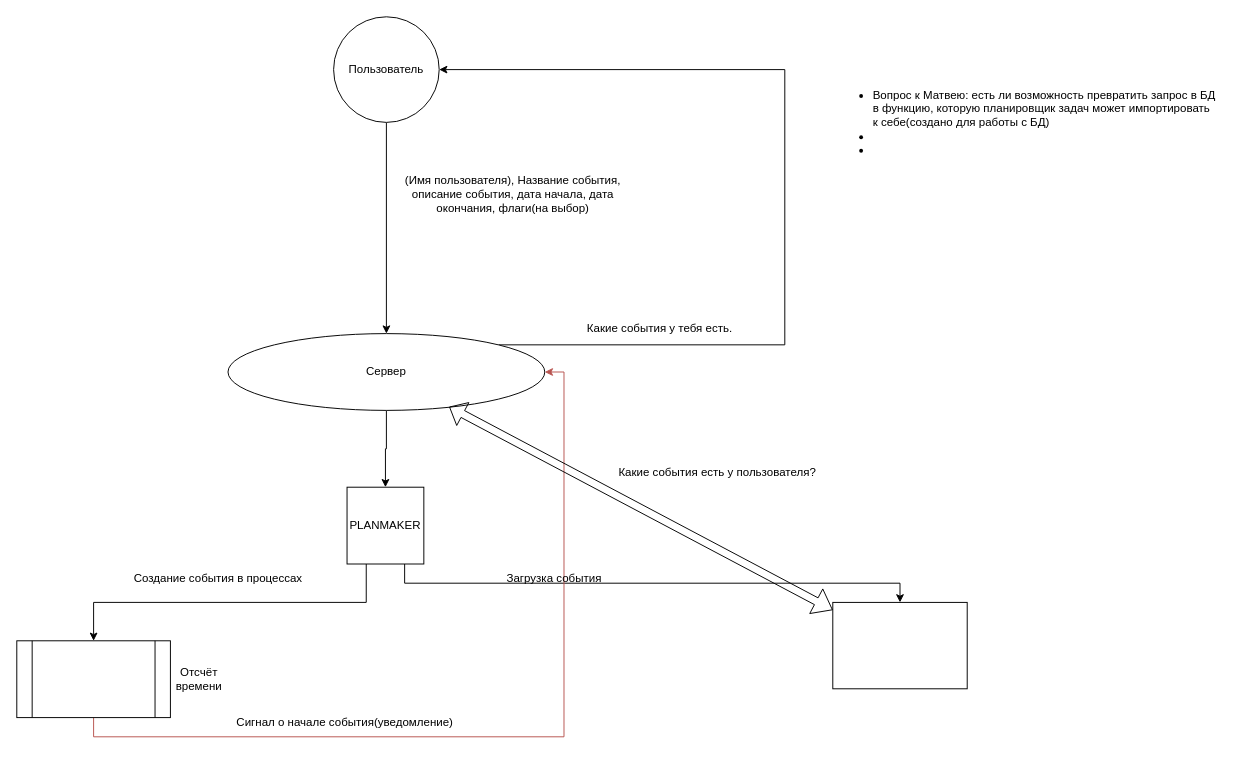
The diagram is 1234 pixels wide and 761 high, and some of its shapes have lost their labels. Here are the shapes that lost their labels. From the top down, the box of each, then its label:
(832, 601, 967, 689): DATABASE OF PLANS
(16, 640, 170, 718): CronJob
